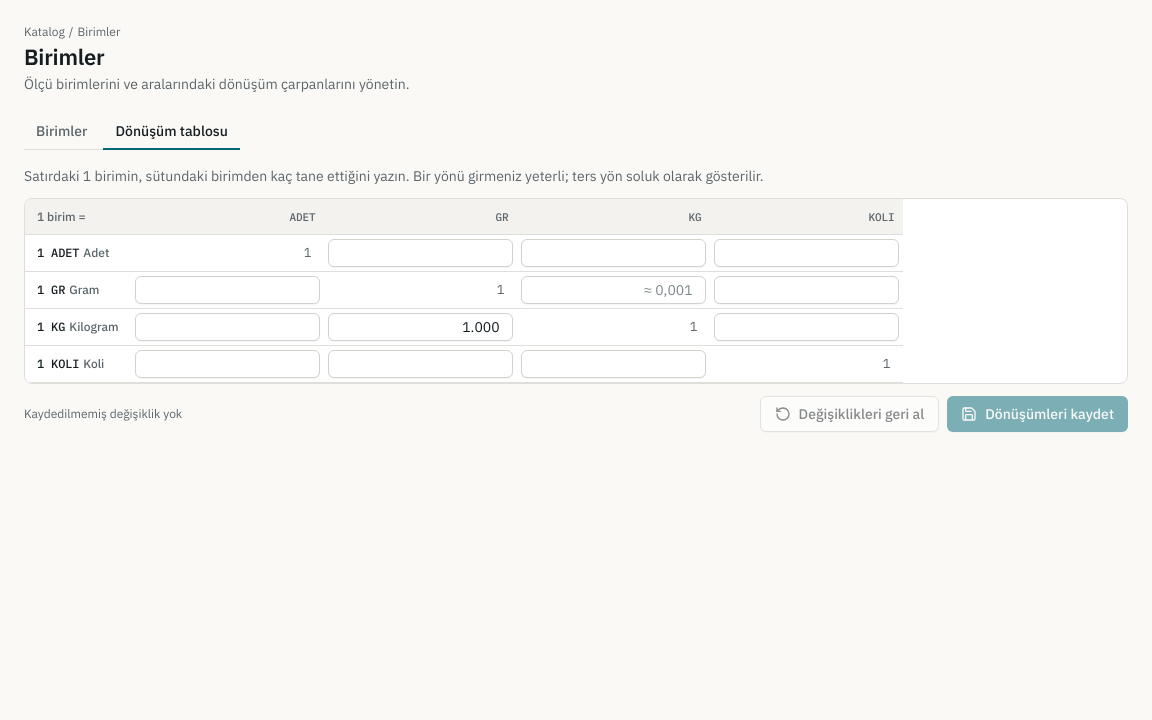
Test: UnitsPage › edits the conversion matrix: factor must be above zero, saves new rows
Expected: the button "Dönüşümleri kaydet" is disabled, [947,396,1128,432]
Type "0" into the field named "1 KOLI kaç ADET". click: (227, 364)
box: [135,350,320,378]
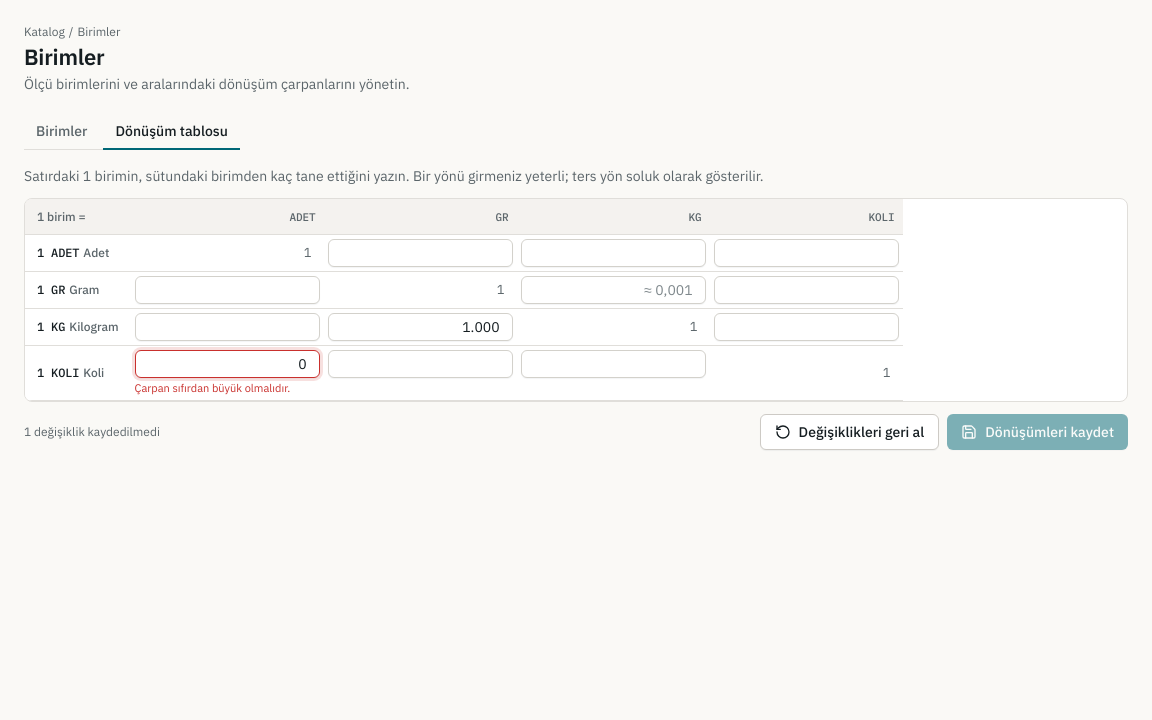
Result: the text "Çarpan sıfırdan büyük olmalıdır." is shown at [135,380,295,396]
Replace the text in the field named "1 KOLI kaç ADET" with "12". click: (227, 364)
box: [135,350,320,378]
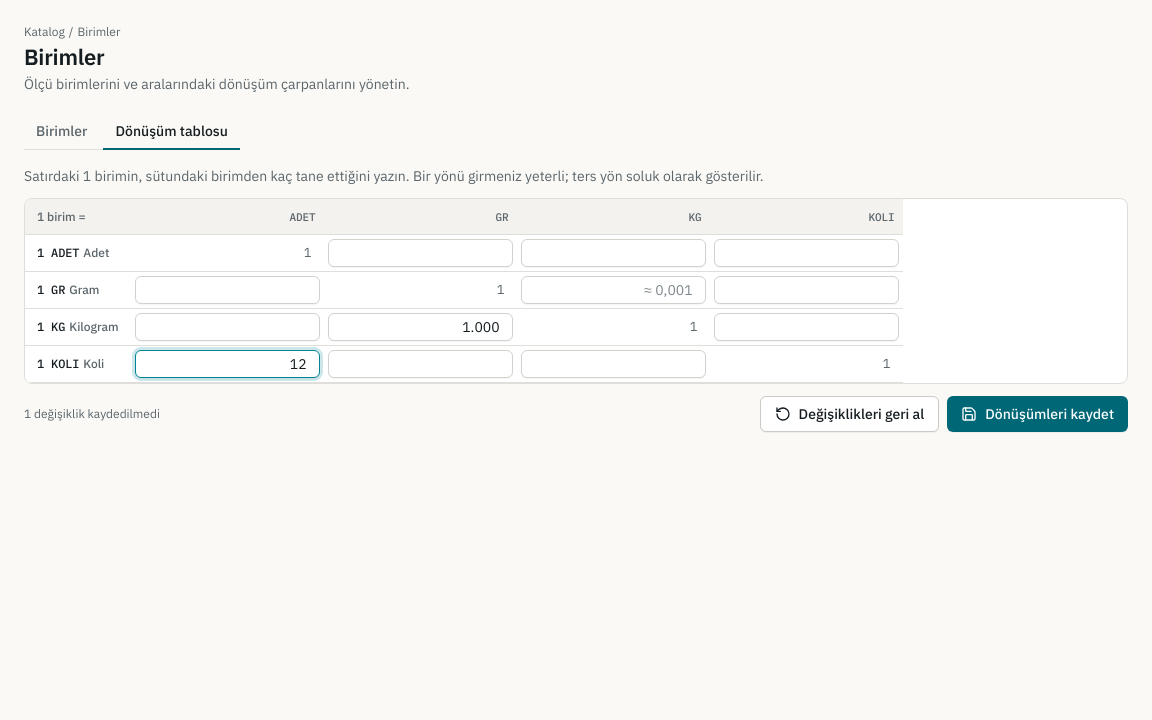
Expected: the text "Çarpan sıfırdan büyük olmalıdır." is not shown
Result: the text "1 değişiklik kaydedilmedi" is shown at [24,406,160,422]
Click the button "Dönüşümleri kaydet". click: (1038, 414)
box: [947,396,1128,432]
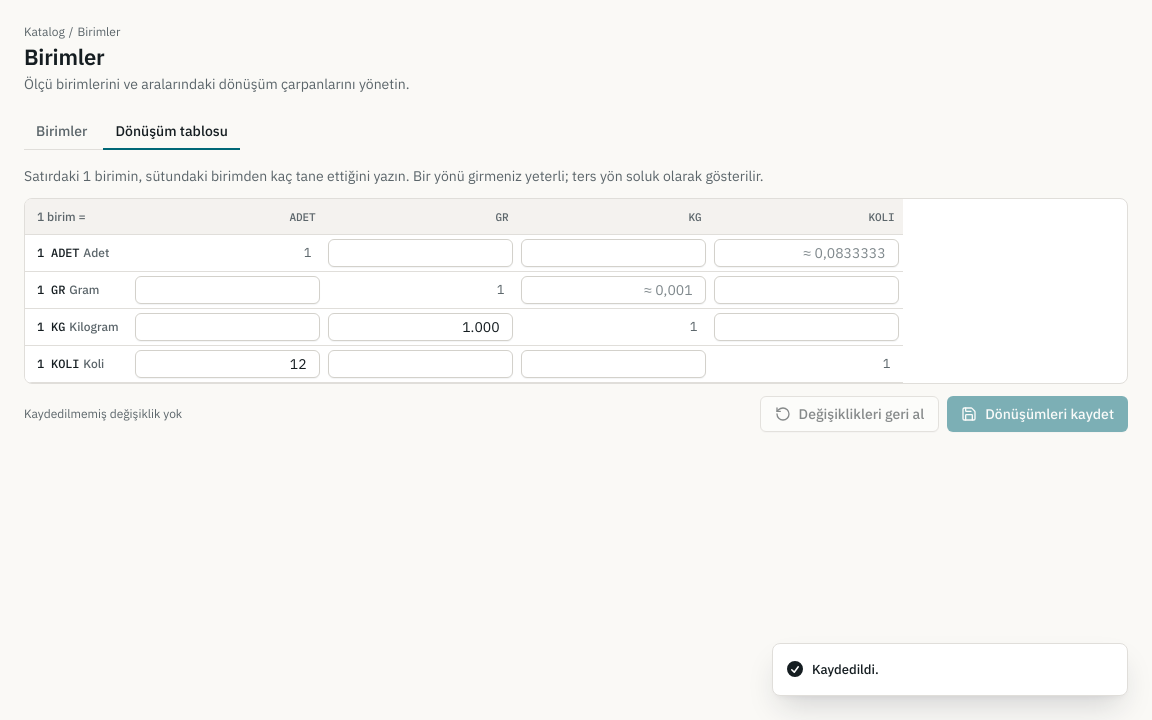
Result: the text "Kaydedilmemiş değişiklik yok" is shown at [24,406,182,422]
